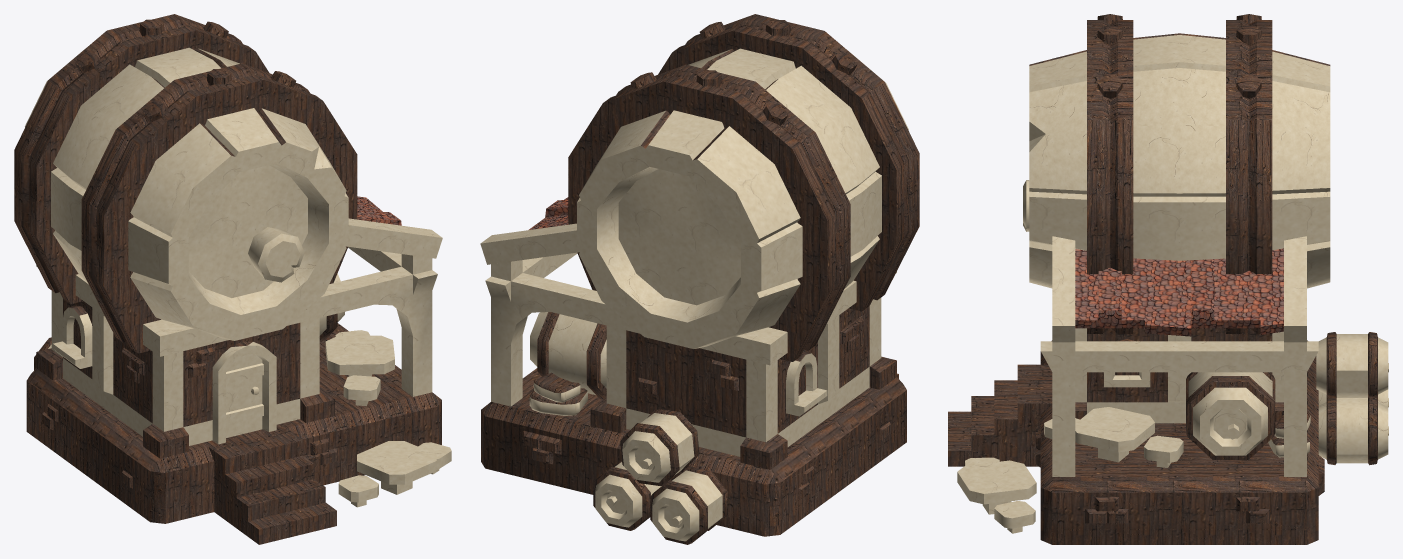
File: prop_tavern.glb
3 views of the same model, side by side, from view 1: azimuth 30°, elevation 25°; view 2: azimuth 150°, elevation 25°; view 3: azimuth 270°, elevation 25° (orthographic). The views are drawn at different scales.
Parts seen in each view (by area): view 1: building_tavern_blue; view 2: building_tavern_blue; view 3: building_tavern_blue.
Boxes of the visible parts, x1,y1,x2,y2 form: building_tavern_blue: (14, 14, 451, 544); building_tavern_blue: (480, 14, 919, 544); building_tavern_blue: (948, 14, 1388, 544).
Size of the model in its own units: 7.62 by 9.08 by 8.66.
3 materials, 3 textured.
